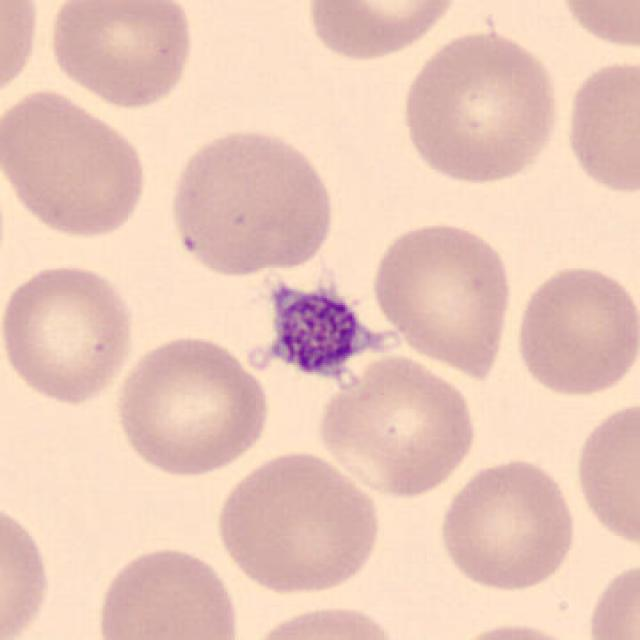Platelets: (247, 266, 397, 404)
RBC: (163, 124, 340, 280), (396, 27, 564, 188), (210, 446, 386, 598), (313, 351, 482, 501), (366, 215, 516, 381), (110, 330, 274, 480), (2, 85, 153, 242), (0, 259, 140, 407), (434, 453, 580, 594), (510, 261, 638, 400), (43, 0, 197, 111), (90, 539, 245, 640), (560, 53, 638, 199), (571, 395, 638, 552), (302, 0, 462, 63), (0, 493, 55, 640), (242, 599, 407, 640), (0, 0, 44, 111), (583, 555, 638, 640), (553, 0, 638, 53), (443, 619, 592, 640)
